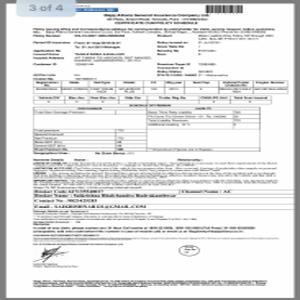table: (33, 107, 260, 154), (33, 80, 289, 94), (33, 94, 271, 105)
text: (31, 26, 278, 79), (33, 159, 278, 169), (33, 170, 278, 178), (33, 179, 278, 186), (102, 12, 211, 25)
